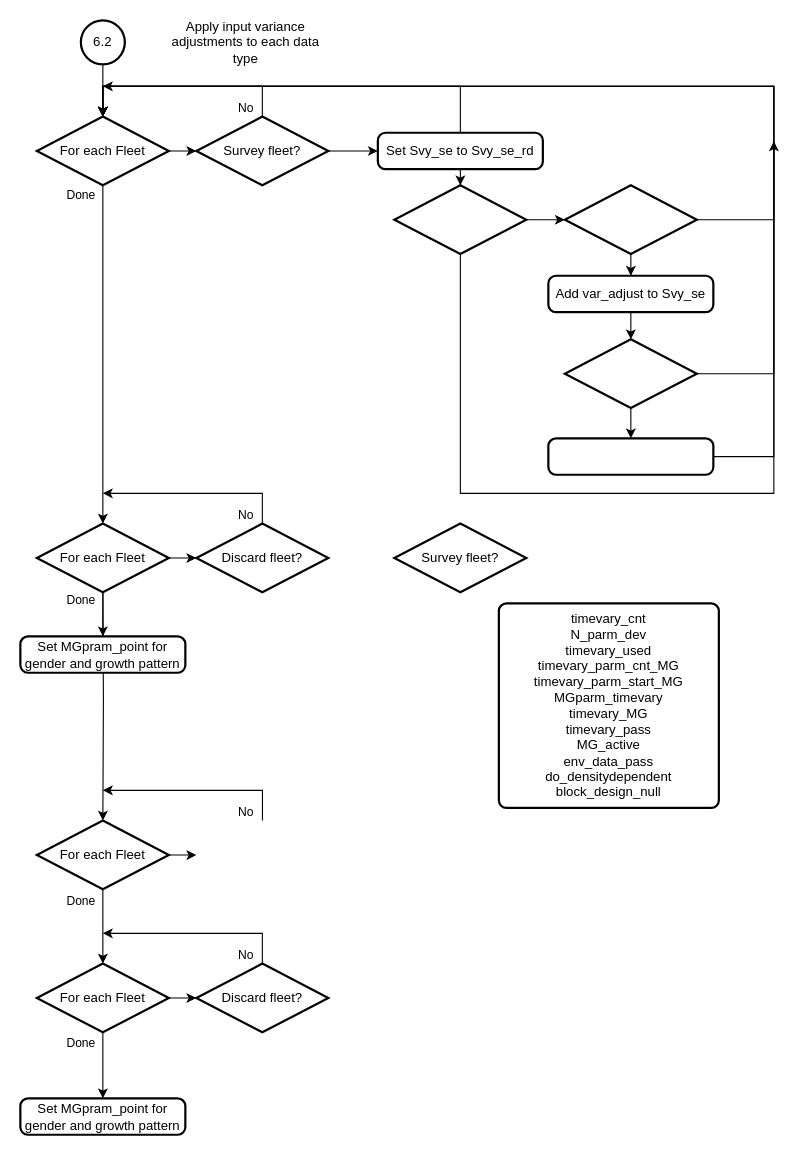
The diagram is 802 pixels wide and 1155 high, and some of its shapes have lost their labels. The centre of each missing label's shape, as x and y in pixels:
"Set Svy_se = 0.001" goes at (x=630, y=456).
"Svy_errtype >= 0" goes at (x=630, y=219).
"Svy_se > 0" goes at (x=630, y=373).
"Svy_use >= 0" goes at (x=460, y=219).
